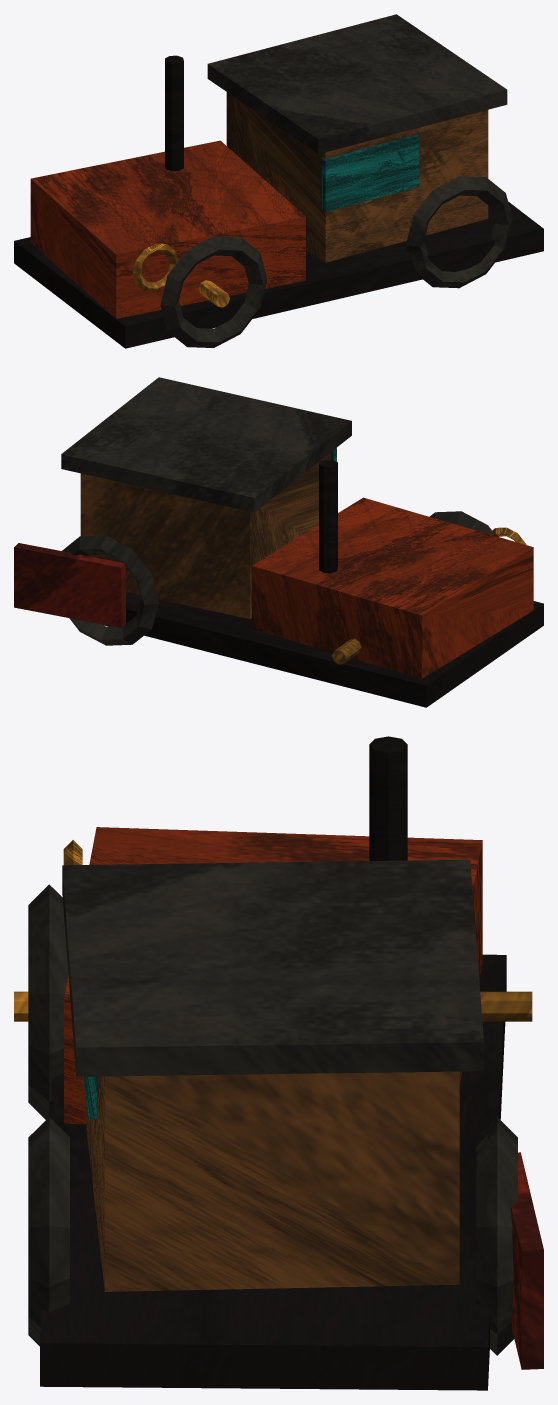
File: flivver-row-east-a.glb
The picture shows the model from 3 angles, top to bottom: view 1: azimuth 30°, elevation 25°; view 2: azimuth 150°, elevation 25°; view 3: azimuth 270°, elevation 25°; orthographic projection. The views are drawn at different scales.
Visible parts, largest first — view 1: flivver-row-east-a; view 2: flivver-row-east-a; view 3: flivver-row-east-a.
Boxes of the visible parts, box(x1,y1,x2,y2) form: flivver-row-east-a: box(14, 14, 543, 348); flivver-row-east-a: box(14, 377, 543, 707); flivver-row-east-a: box(14, 736, 543, 1390).
Bounding box in the file's own units: 5.85 × 2.85 × 3.31.
Materials: 1 (1 with a texture image).
